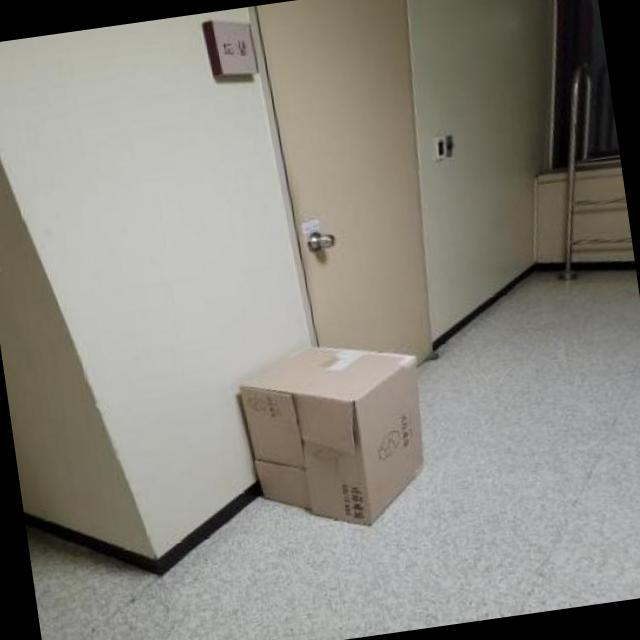box: (223, 319, 454, 546)
